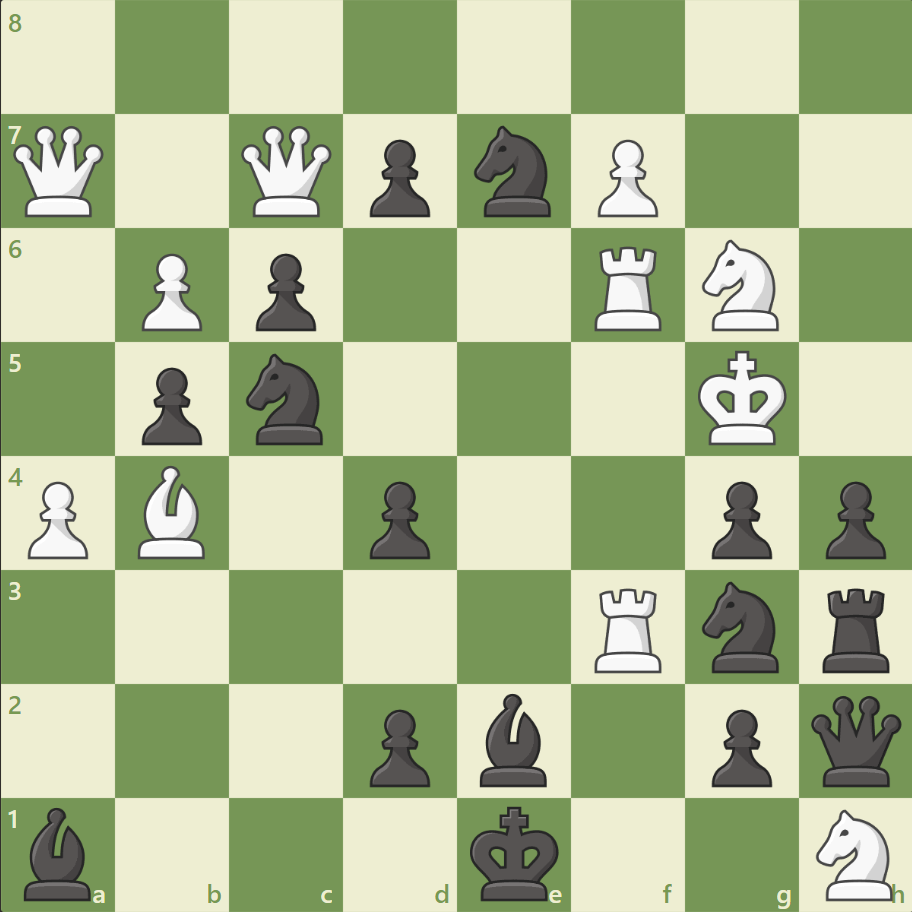B: (131, 460, 215, 563)
K: (692, 344, 792, 452)
N: (692, 234, 789, 337), (806, 802, 903, 904)
P: (133, 246, 208, 337), (20, 473, 95, 564), (588, 132, 662, 223)
Q: (10, 122, 109, 222), (237, 122, 336, 222)
R: (587, 239, 670, 336), (587, 579, 670, 676)
b: (471, 687, 555, 790), (17, 801, 101, 904)
k: (465, 798, 565, 906)
n: (465, 121, 562, 223), (238, 348, 335, 450), (692, 575, 789, 677)
p: (247, 246, 322, 337), (133, 359, 208, 450), (701, 473, 776, 564), (701, 700, 776, 791), (361, 132, 435, 223), (361, 473, 435, 564), (815, 473, 889, 564), (361, 700, 435, 791)
q: (805, 690, 904, 789)
r: (814, 579, 897, 676)
